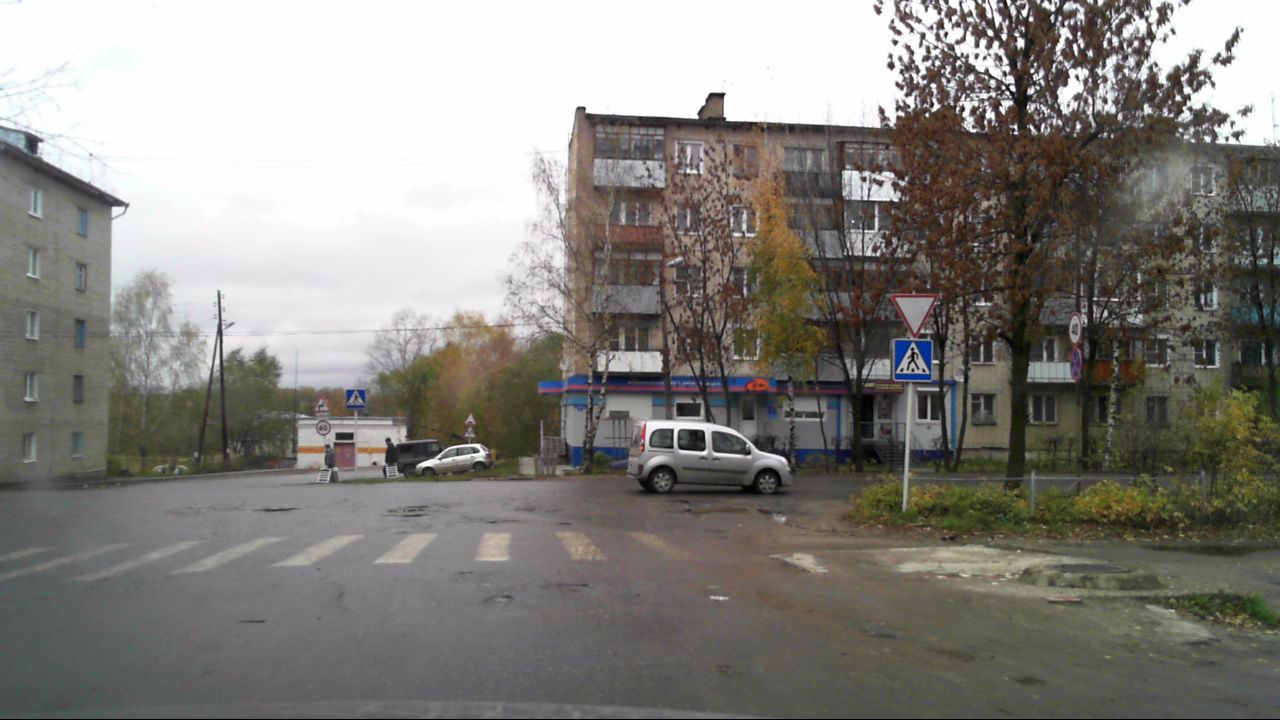No Parking: (1068, 345, 1084, 381)
speed_warning_40: (314, 418, 332, 436)
